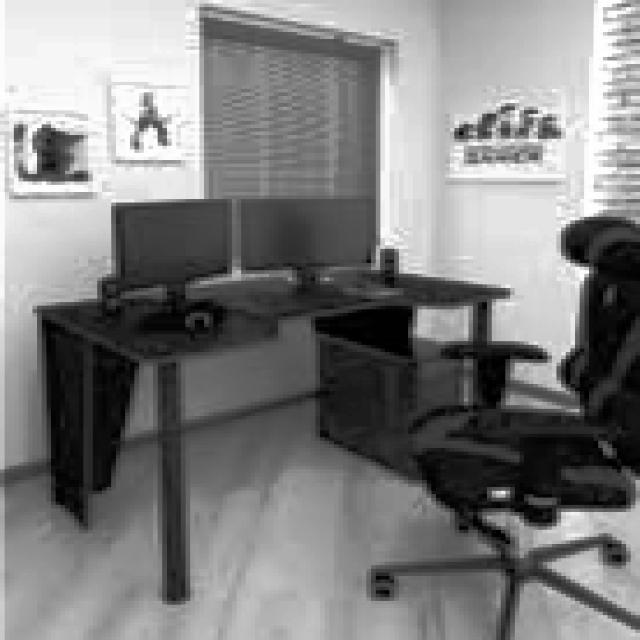book: (367, 214, 636, 636)
table: (33, 267, 510, 601)
